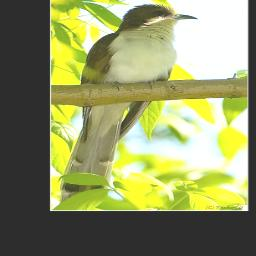Cuckoo: (58, 3, 199, 207)
